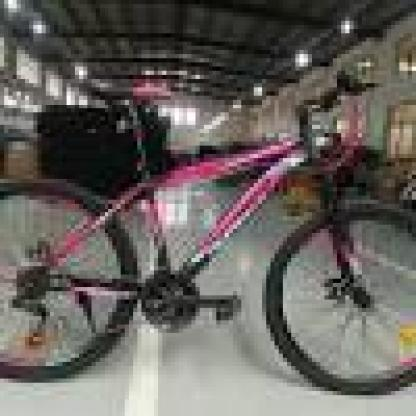Bike: (0, 70, 416, 394)
